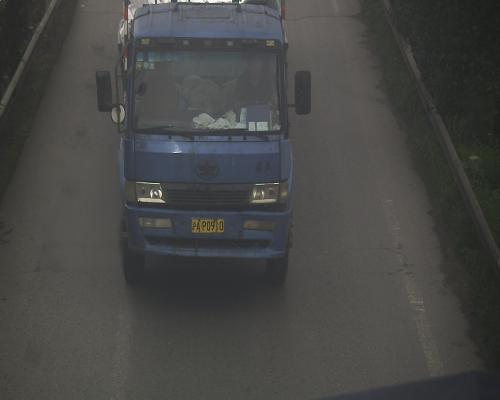Carplate: (188, 214, 229, 237)
